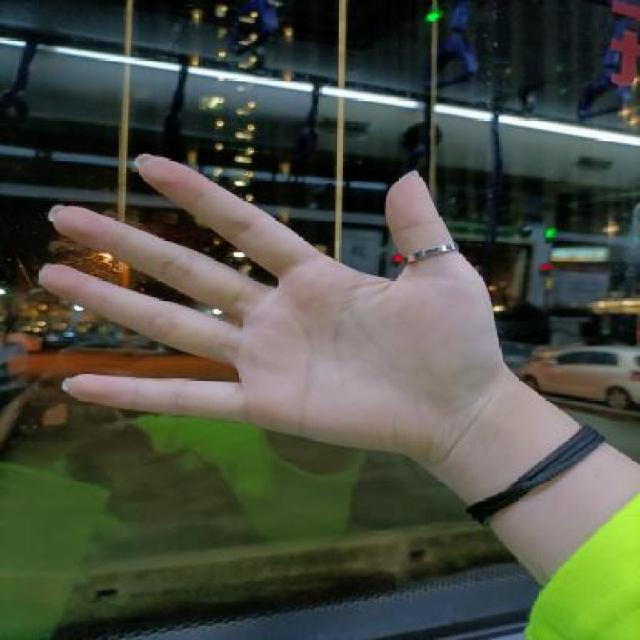no_glove: (25, 124, 533, 464)
